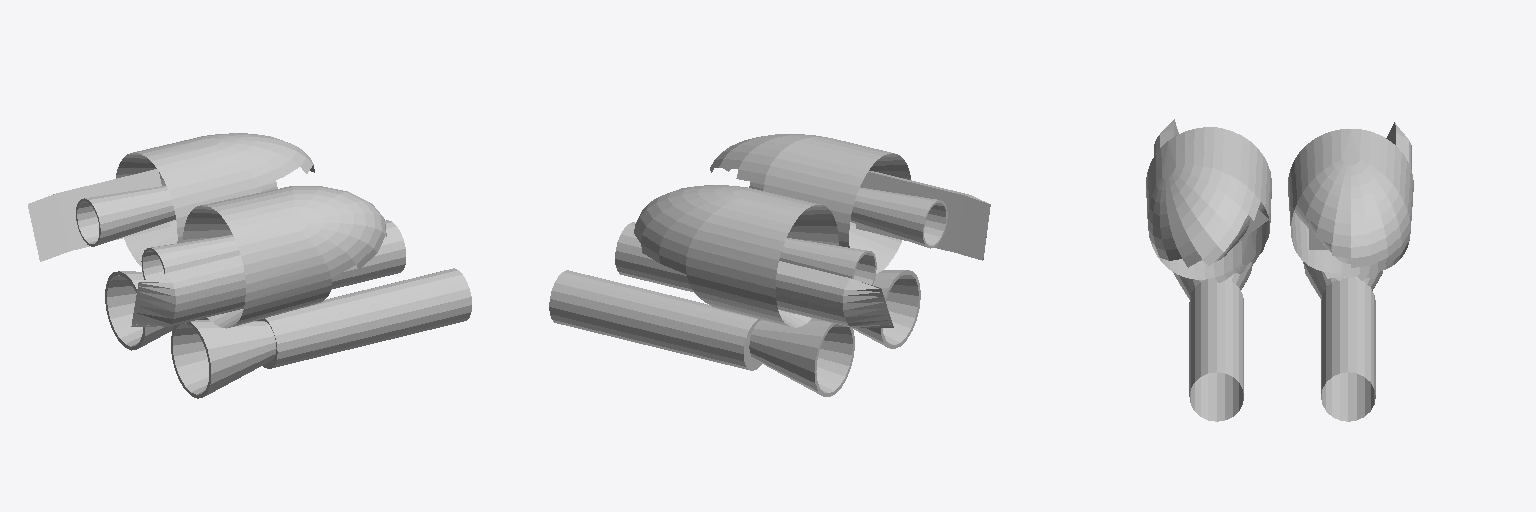
Rendered from Medium_G2Engine.obj.
3 renders of one model, left to right at view 1: azimuth 30°, elevation 25°; view 2: azimuth 150°, elevation 25°; view 3: azimuth 270°, elevation 25°, orthographic.
Visible parts, largest first — view 1: Main_Engine2; view 2: Main_Engine2; view 3: Main_Engine2.
Part boxes in pixels (x1,y1,x2,y2): Main_Engine2: (28, 133, 471, 398); Main_Engine2: (549, 134, 990, 396); Main_Engine2: (1146, 119, 1413, 421).
Bounding box in the file's own units: 3.92 × 2 × 2.66.